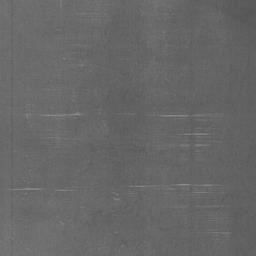Waist folding: (24, 110, 222, 152), (113, 182, 227, 212), (0, 186, 72, 193), (98, 243, 155, 250), (126, 57, 159, 64), (59, 219, 88, 226), (166, 43, 213, 46), (209, 231, 231, 235), (0, 149, 17, 154)
